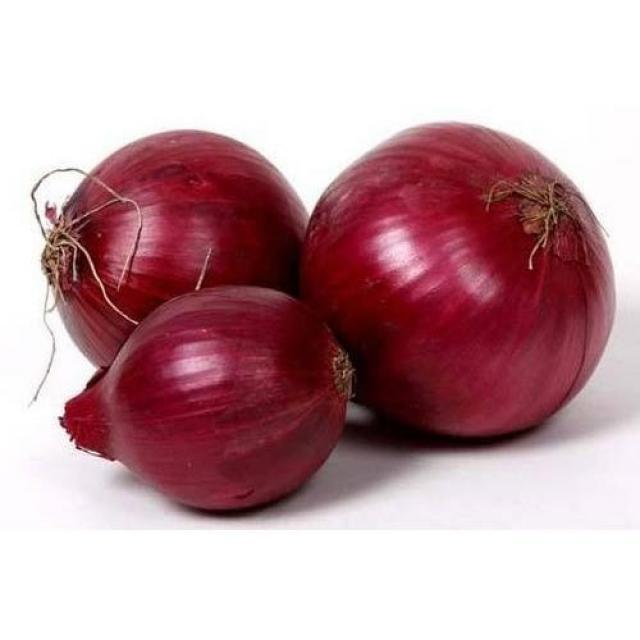ONIONS: (308, 124, 614, 433), (60, 290, 372, 512), (53, 117, 285, 311)
